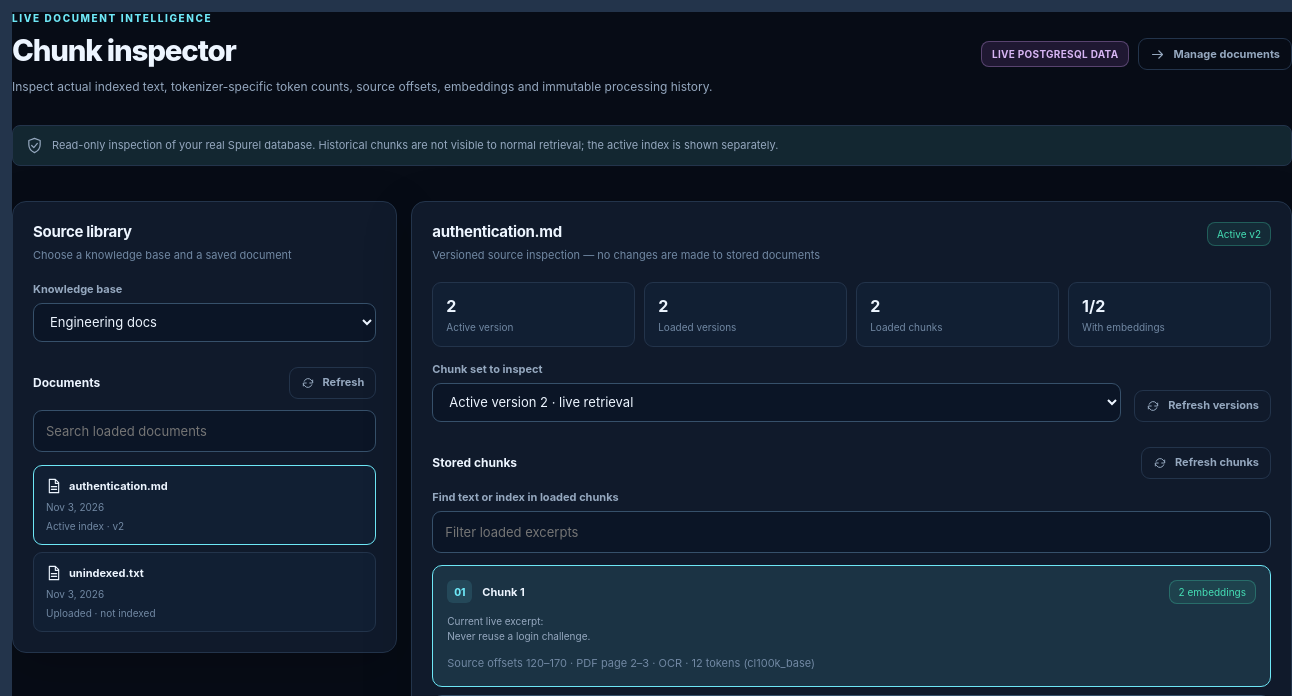
Test: live chunk inspector › shows unindexed documents without inventing an index
Click the button "unindexed.txt Nov 3, 2026 Uploaded · not indexed" at (106, 573), box [33,552,376,632]
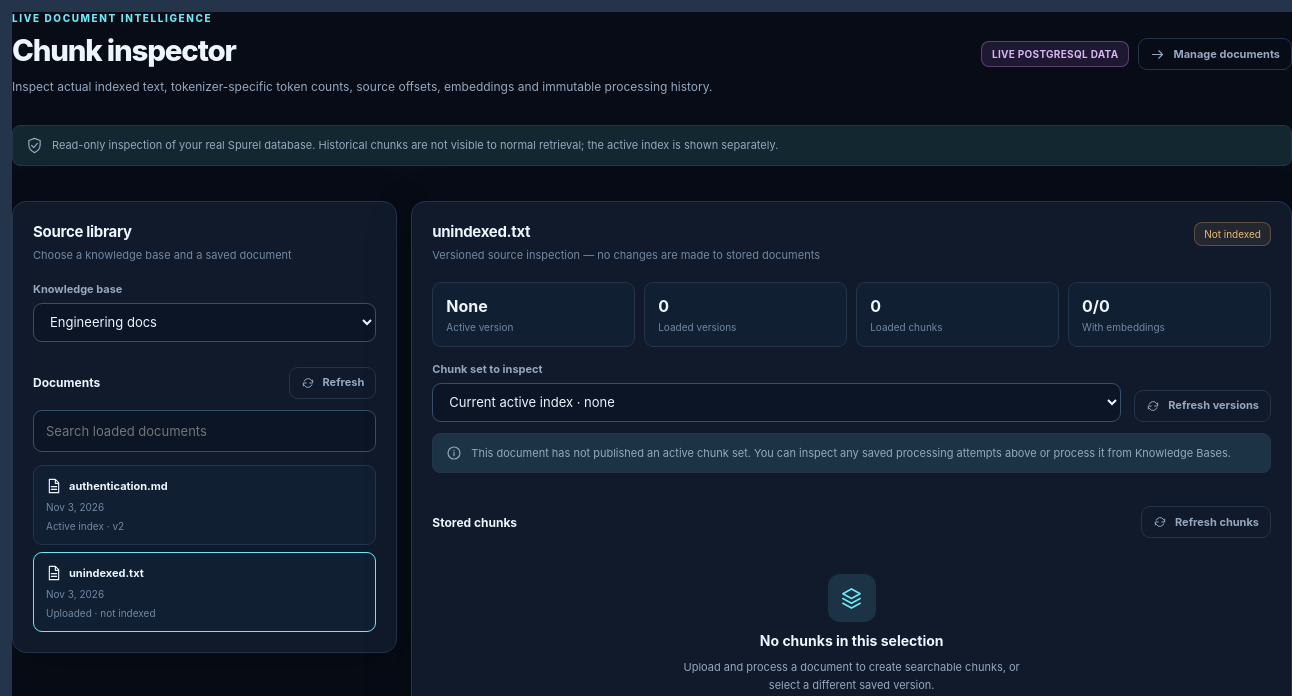
Result: the text "No chunks in this selection" is shown at [760,632,944,649]
Result: the text "not published an active chunk set" is shown at [471,446,1231,460]
Result: no buttons "Current live excerpt" are shown
